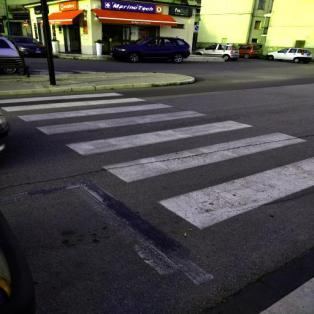Paso de Cebra: (54, 118, 314, 186)
